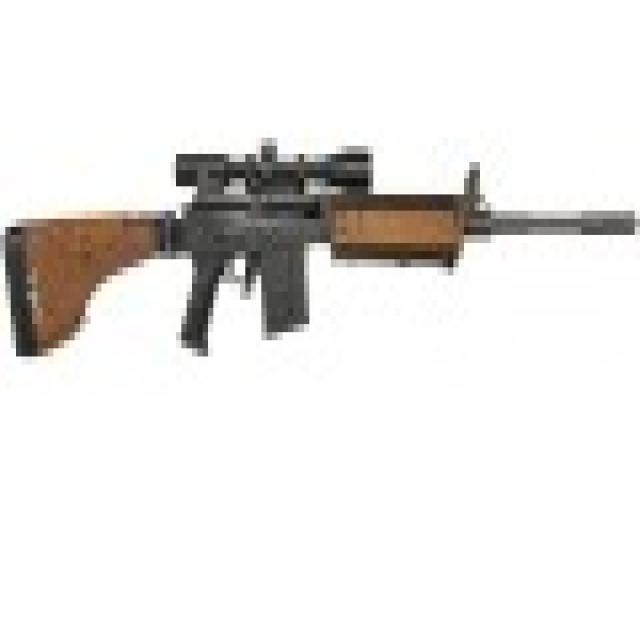Gun: (2, 123, 640, 374)
